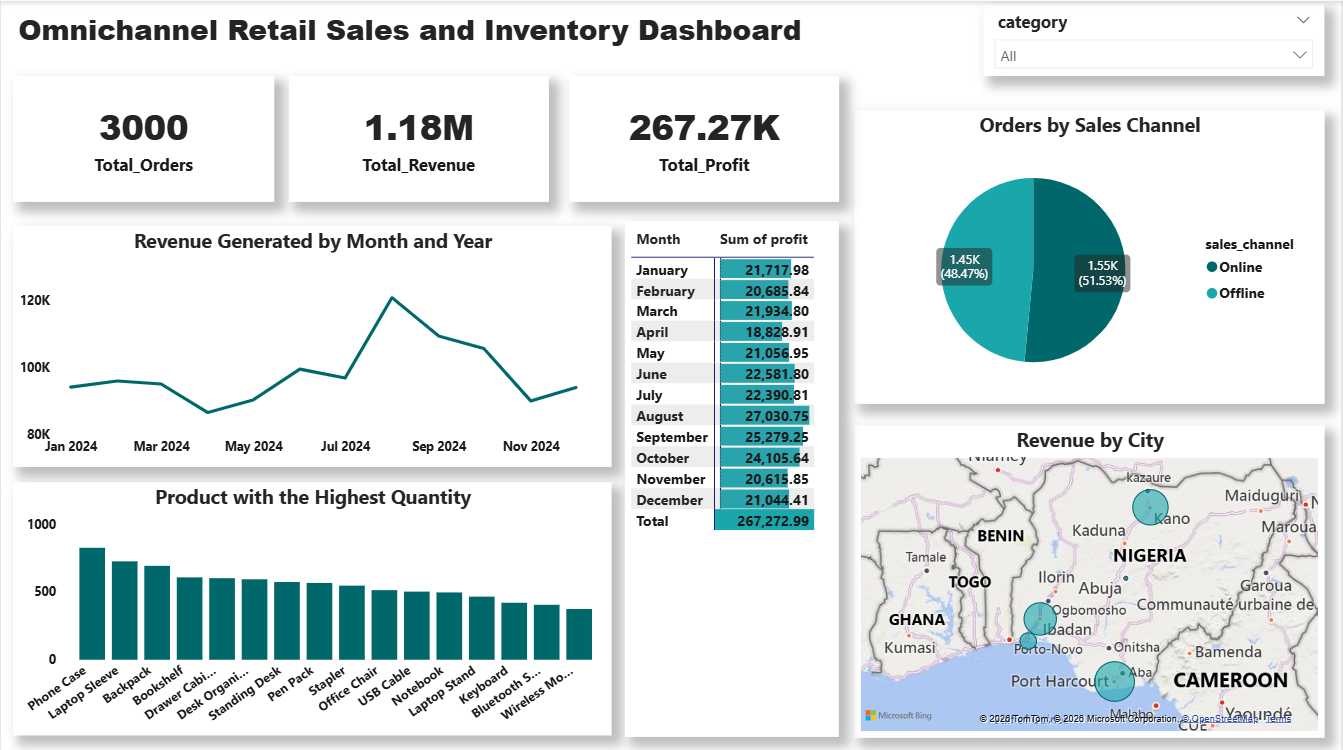

What the dashboard file says about the page in this screenshot:
{"tool":"powerbi","page":{"name":"Page 1","canvas":[1280,720],"ordinal":0},"visuals":[{"type":"lineChart","title":"Revenue Generated by Month and Year","fields":{"Y":["cleaned_retail_data.Total_Revenue"],"Category":["cleaned_retail_data.order_date.Variation.Date Hierarchy.Year","cleaned_retail_data.order_date.Variation.Date Hierarchy.Quarter","cleaned_retail_data.order_date.Variation.Date Hierarchy.Month"]},"box":[11.3,215.4,571.6,229.9],"z":0},{"type":"clusteredColumnChart","title":"Product with the Highest Quantity ","fields":{"Y":["Sum(cleaned_retail_data.quantity)"],"Category":["cleaned_retail_data.product"]},"box":[11.3,459.9,571.6,241.3],"z":1000},{"type":"map","title":"Revenue by City","fields":{"Category":["cleaned_retail_data.city"],"Size":["cleaned_retail_data.Total_Revenue"]},"box":[814.5,404.8,448.5,297.9],"z":2001},{"type":"slicer","fields":{"Values":["cleaned_retail_data.category"]},"box":[938.2,2.9,325.2,68.8],"z":2002},{"type":"pieChart","title":"Orders by Sales Channel","fields":{"Category":["cleaned_retail_data.sales_channel"],"Y":["CountNonNull(cleaned_retail_data.order_id)"]},"box":[814.5,105.2,448.5,280.1],"z":2003},{"type":"card","fields":{"Values":["cleaned_retail_data.Total_Orders"]},"box":[11.3,71.2,249.4,119.8],"z":2004},{"type":"card","fields":{"Values":["cleaned_retail_data.Total_Revenue"]},"box":[275.3,71.2,247.7,119.8],"z":2005},{"type":"card","fields":{"Values":["cleaned_retail_data.Total_Profit"]},"box":[542.4,71.2,257.5,119.8],"z":2006},{"type":"pivotTable","fields":{"Rows":["cleaned_retail_data.order_date.Variation.Date Hierarchy.Month","cleaned_retail_data.order_date.Variation.Date Hierarchy.Day"],"Values":["Sum(cleaned_retail_data.profit)"]},"box":[595.9,210.5,204,492.2],"z":2007},{"type":"textbox","box":[11.3,3.2,770.8,51.8],"z":2008}]}

Visuals, with their boxes in screenshot pixels (x1, y1, x2, y2), scaled from the page's 1280x720 canvas onto the 1343x750 screenshot:
"Revenue Generated by Month and Year" lineChart: 12, 224, 612, 464
"Product with the Highest Quantity " clusteredColumnChart: 12, 479, 612, 730
"Revenue by City" map: 855, 422, 1325, 732
slicer - cleaned_retail_data.category: 984, 3, 1326, 75
"Orders by Sales Channel" pieChart: 855, 110, 1325, 401
card - cleaned_retail_data.Total_Orders: 12, 74, 274, 199
card - cleaned_retail_data.Total_Revenue: 289, 74, 549, 199
card - cleaned_retail_data.Total_Profit: 569, 74, 839, 199
pivotTable - cleaned_retail_data.order_date.Variation.Date Hierarchy.Month x cleaned_retail_data.order_date.Variation.Date Hierarchy.Day: 625, 219, 839, 732
textbox: 12, 3, 821, 57
